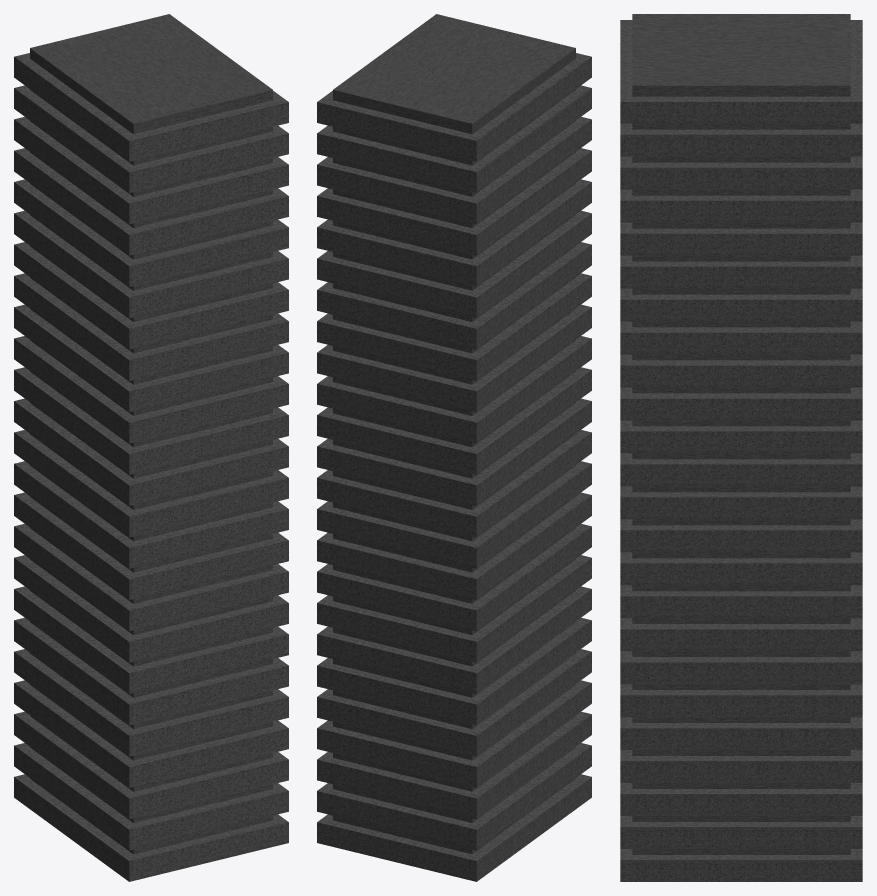
Rendered from Megastructure1.fbx.
The picture shows the model from 3 angles, left to right: view 1: azimuth 30°, elevation 25°; view 2: azimuth 150°, elevation 25°; view 3: azimuth 270°, elevation 25°; orthographic projection. The views are drawn at different scales.
Visible parts, largest first — view 1: Cube.002; view 2: Cube.002; view 3: Cube.002.
Part boxes in pixels (<box>): Cube.002: <box>14,14,288,881</box>; Cube.002: <box>317,14,591,881</box>; Cube.002: <box>620,14,862,881</box>.
Bounding box in the file's own units: 1600 × 7200 × 2000.
